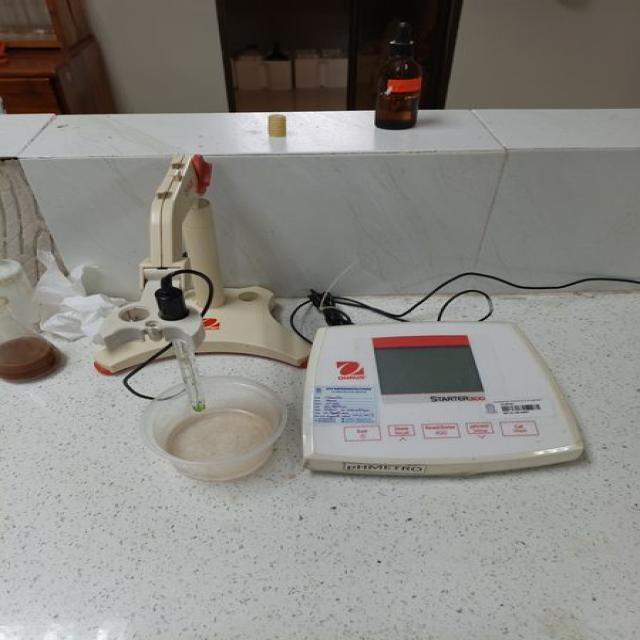Potenciometro - pH-metro Digital de Mesa: (95, 156, 582, 480)
